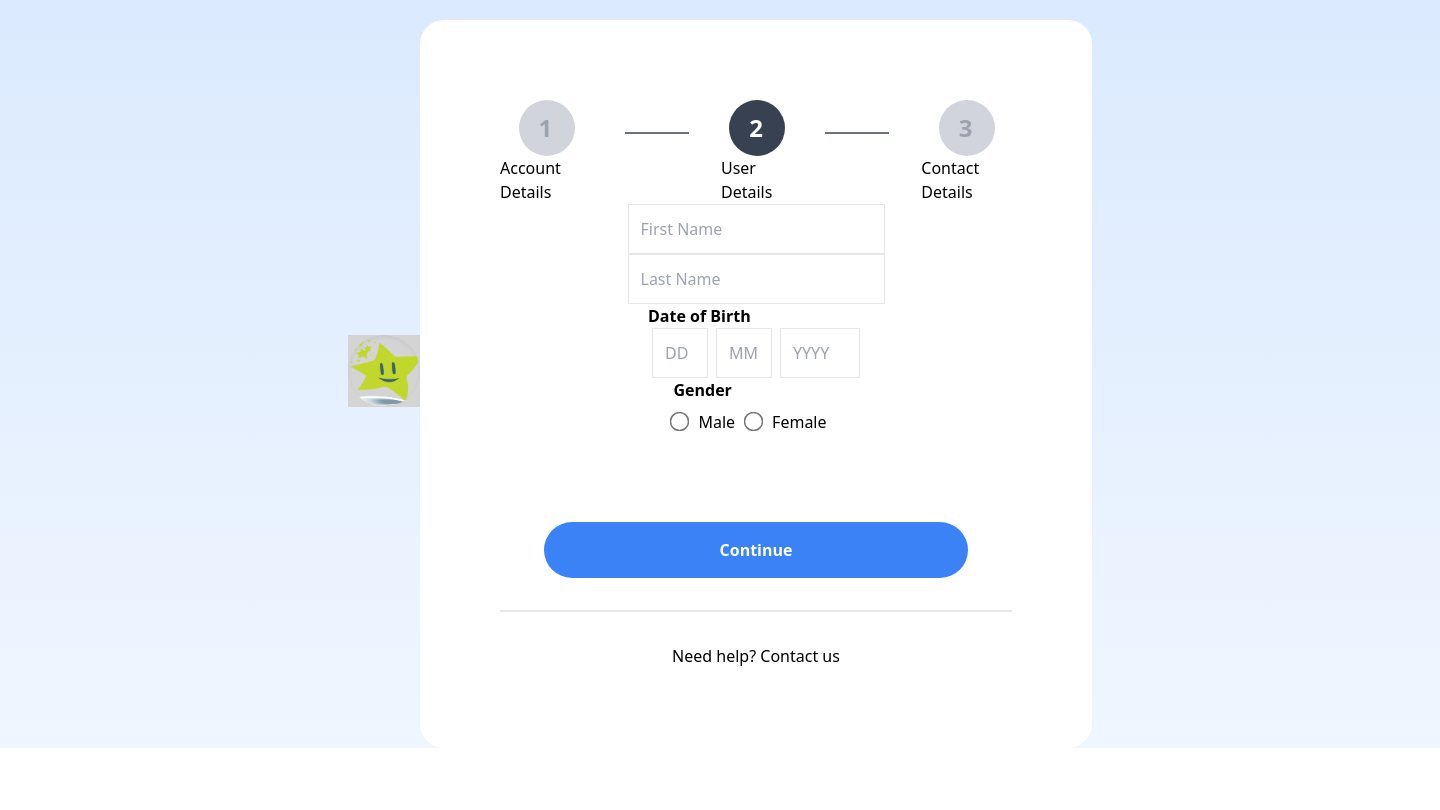
Test case: UserDetails › validations › first/last name › first name should be only letters, spaces, apostrophes, dashes and between 2 - 30, value: valid--not
Type "valid--not" into the field with placeholder "First Name".
click(756, 229); type("valid--not")  # box top-left (628, 204), bottom-right (884, 254)
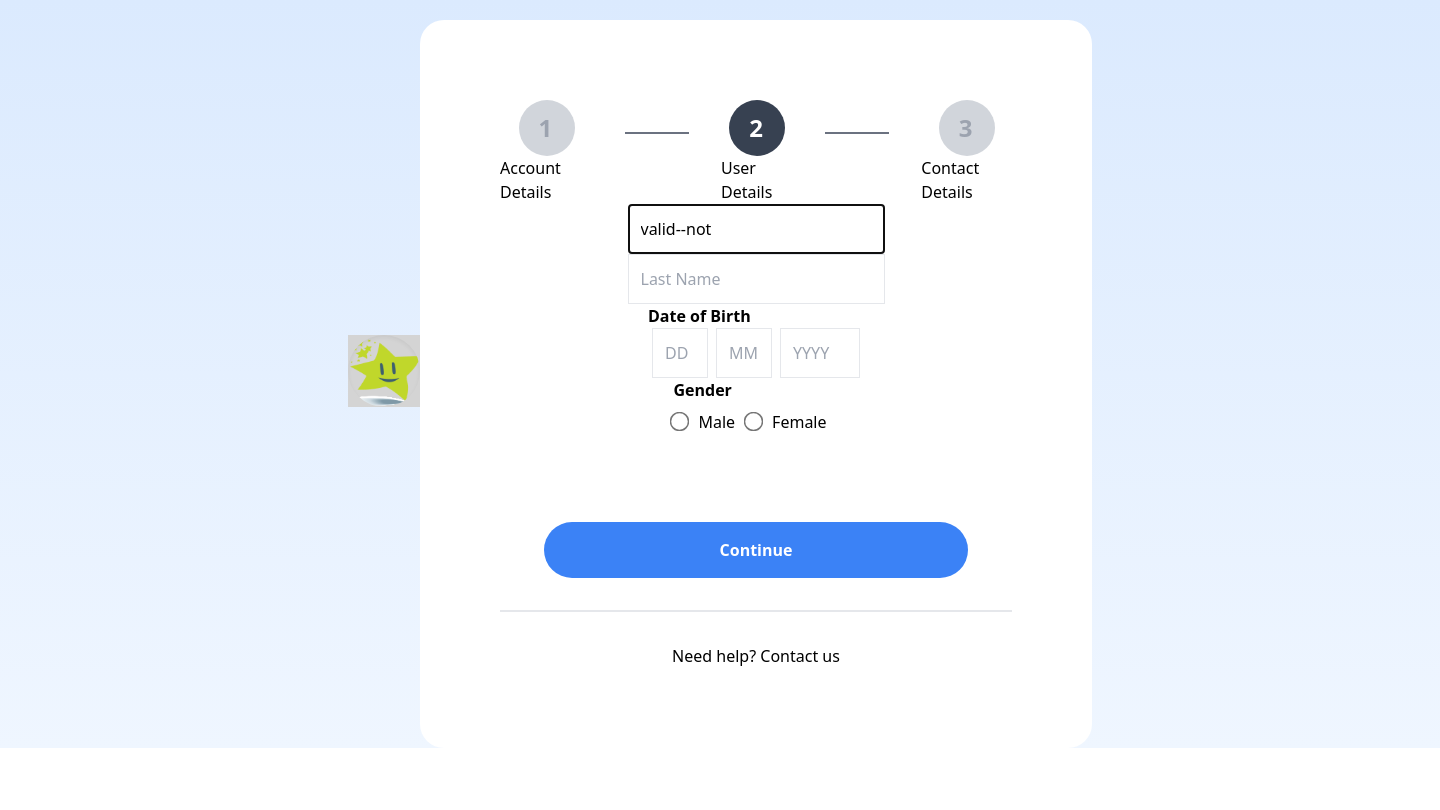
Press Tab
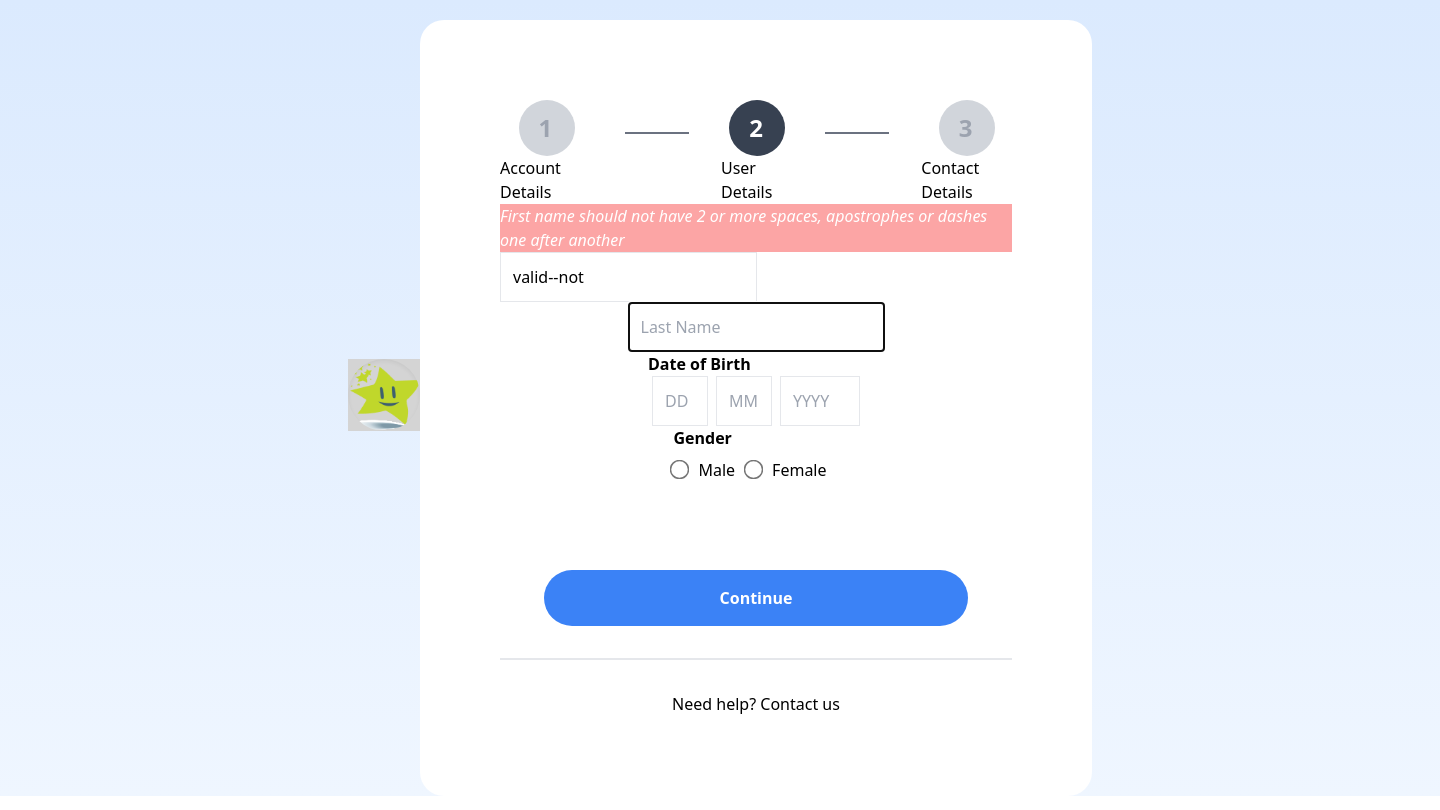
Check: the text "First name" is shown, box top-left (500, 205), bottom-right (987, 251)
